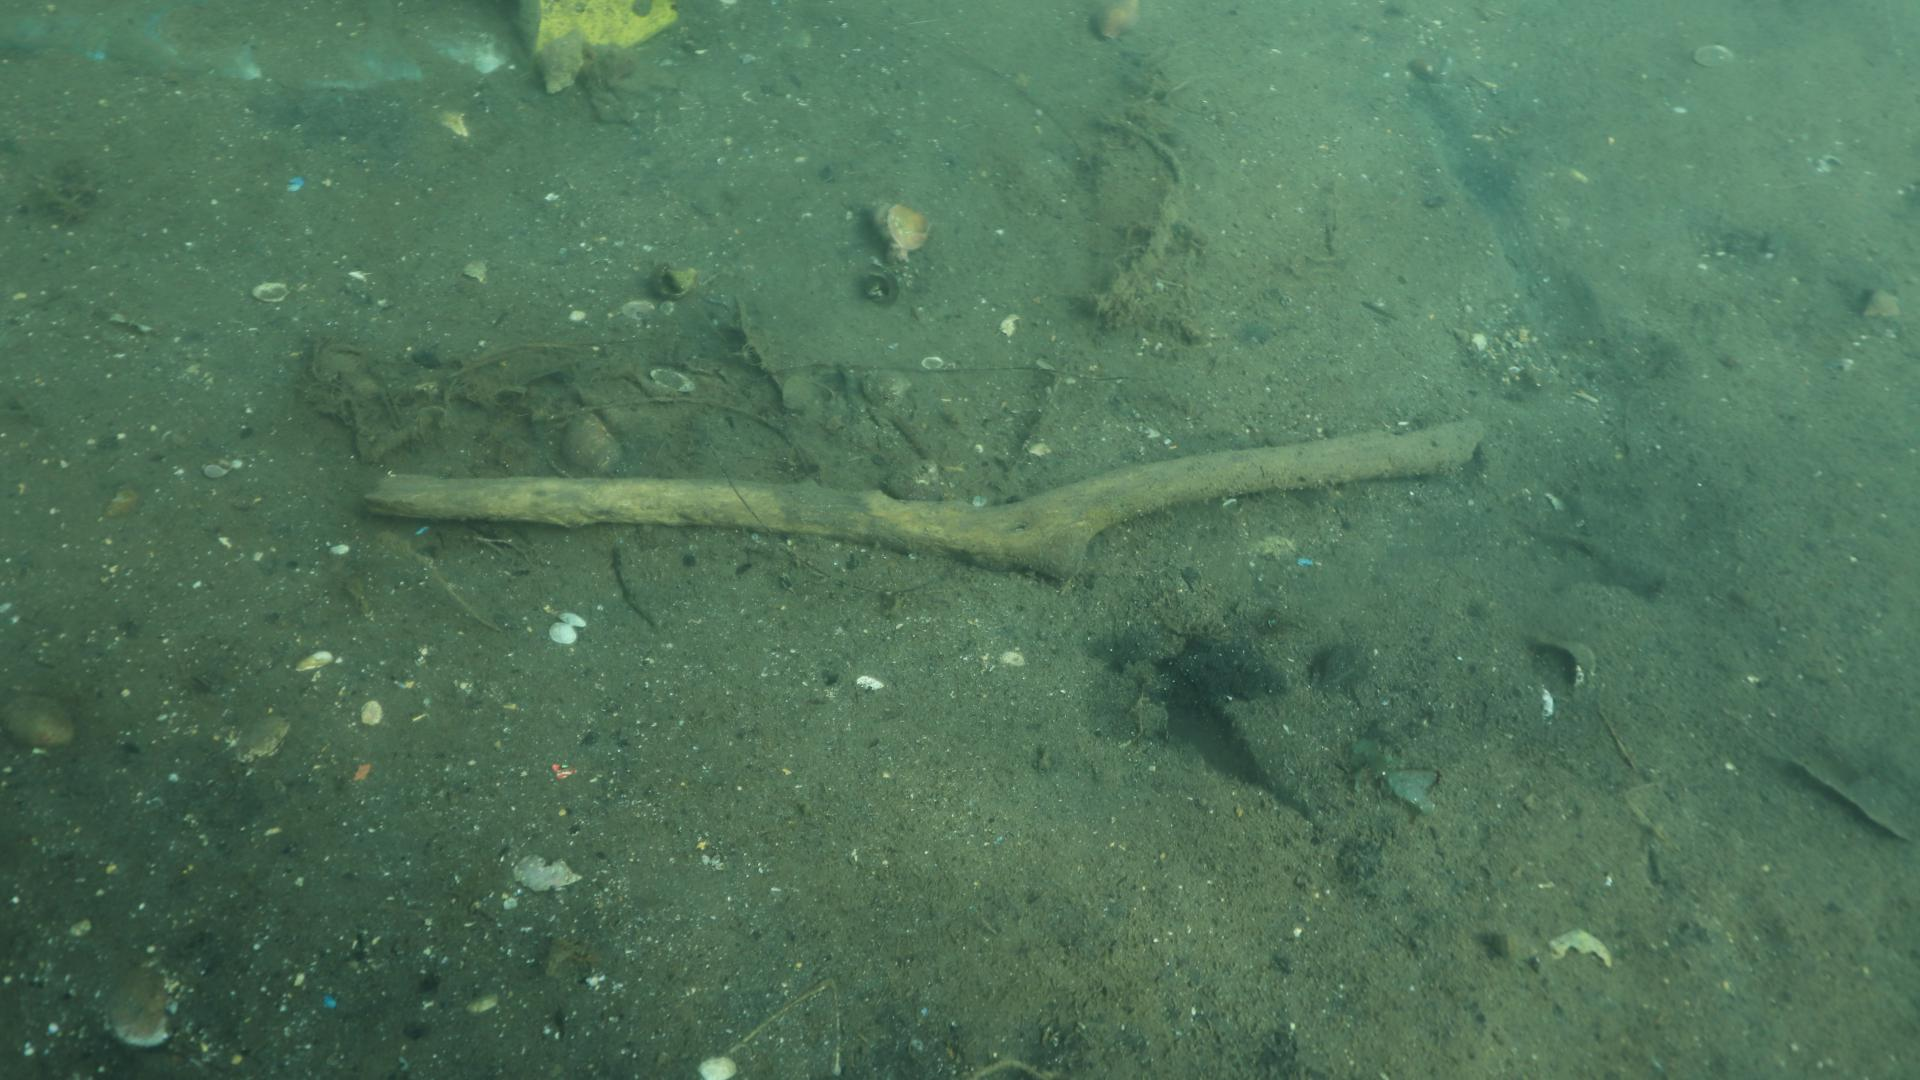wood: (361, 415, 1484, 585)
